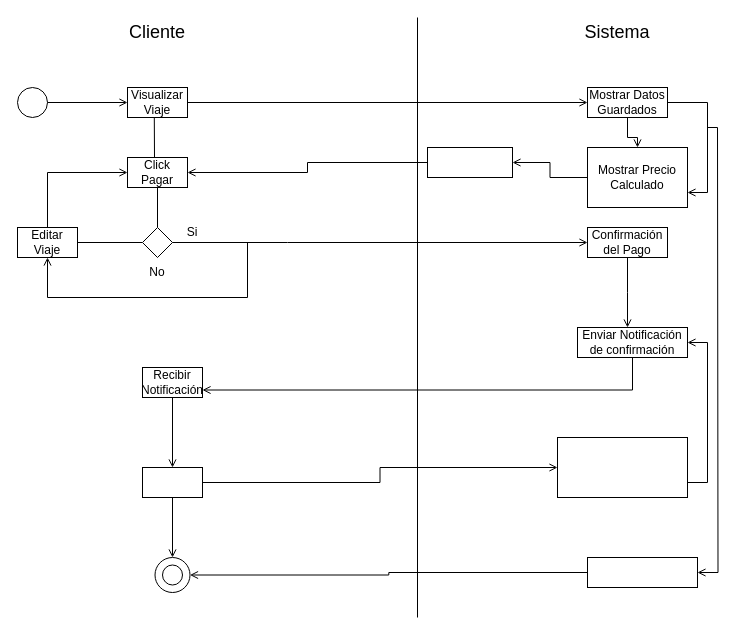
This 744x636 diagram has some shape labels left out. Here are the shapes that lost their labels. From the top down, the box of each, then its label:
(426, 146, 512, 178): Mostrar Planificar Viaje
(142, 466, 202, 498): Confirmar Pago
(556, 436, 688, 498): Validar Confirmación de Pago
(586, 556, 698, 588): Pago Completado
